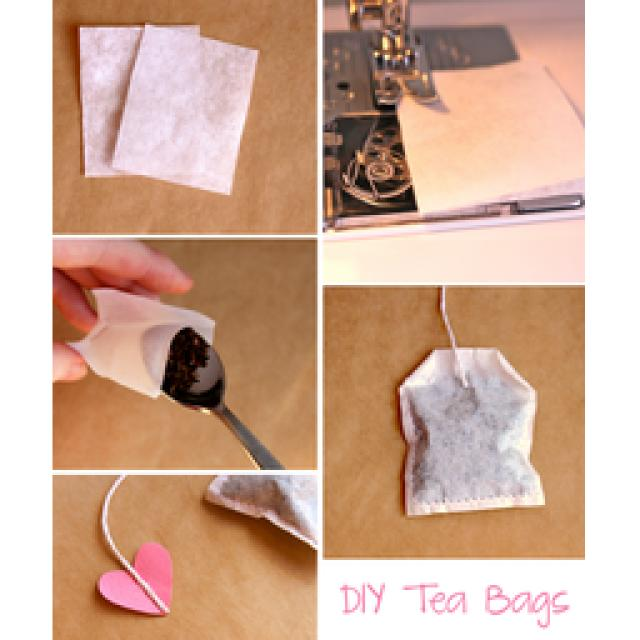tea-bags: (81, 25, 259, 196), (399, 315, 545, 516), (63, 289, 215, 399), (201, 476, 317, 550)
